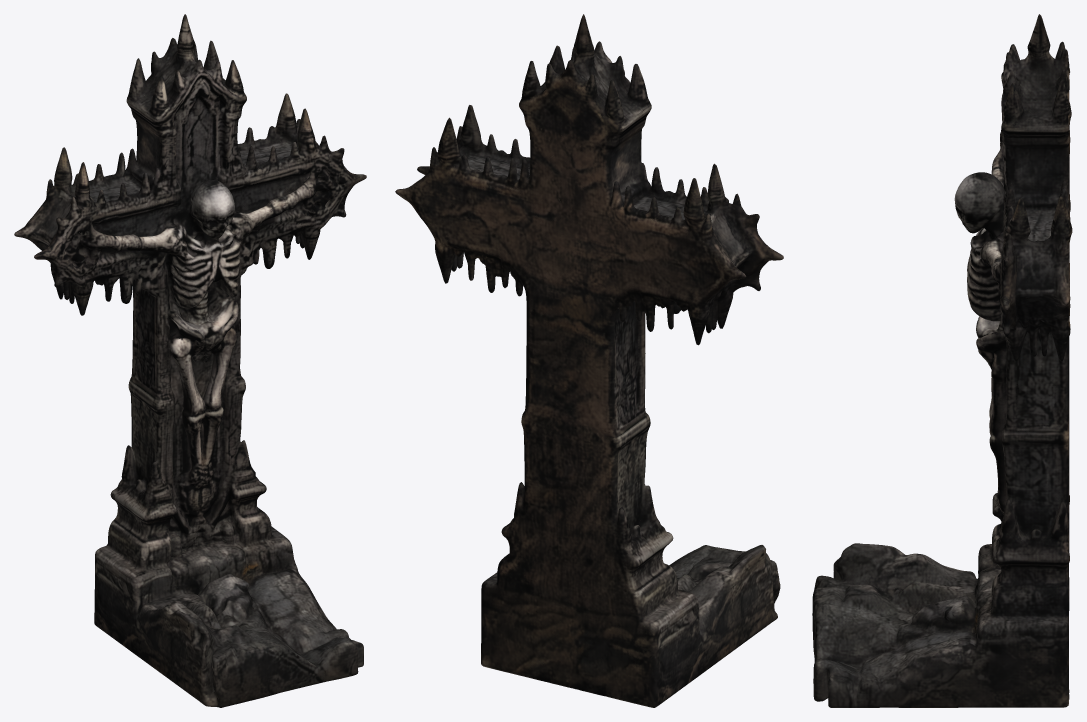
File: KRIZ.glb
The picture shows the model from 3 angles, left to right: view 1: azimuth 30°, elevation 25°; view 2: azimuth 150°, elevation 25°; view 3: azimuth 270°, elevation 25°; orthographic projection. The views are drawn at different scales.
Parts seen in each view (by area): view 1: world; view 2: world; view 3: world.
Boxes of the visible parts, box(x1,y1,x2,y2) form: world: box(14, 14, 366, 707); world: box(395, 14, 783, 707); world: box(812, 14, 1072, 707).
Bounding box in the file's own units: 0.5776 × 1 × 0.3616.
Materials: 1 (1 with a texture image).
